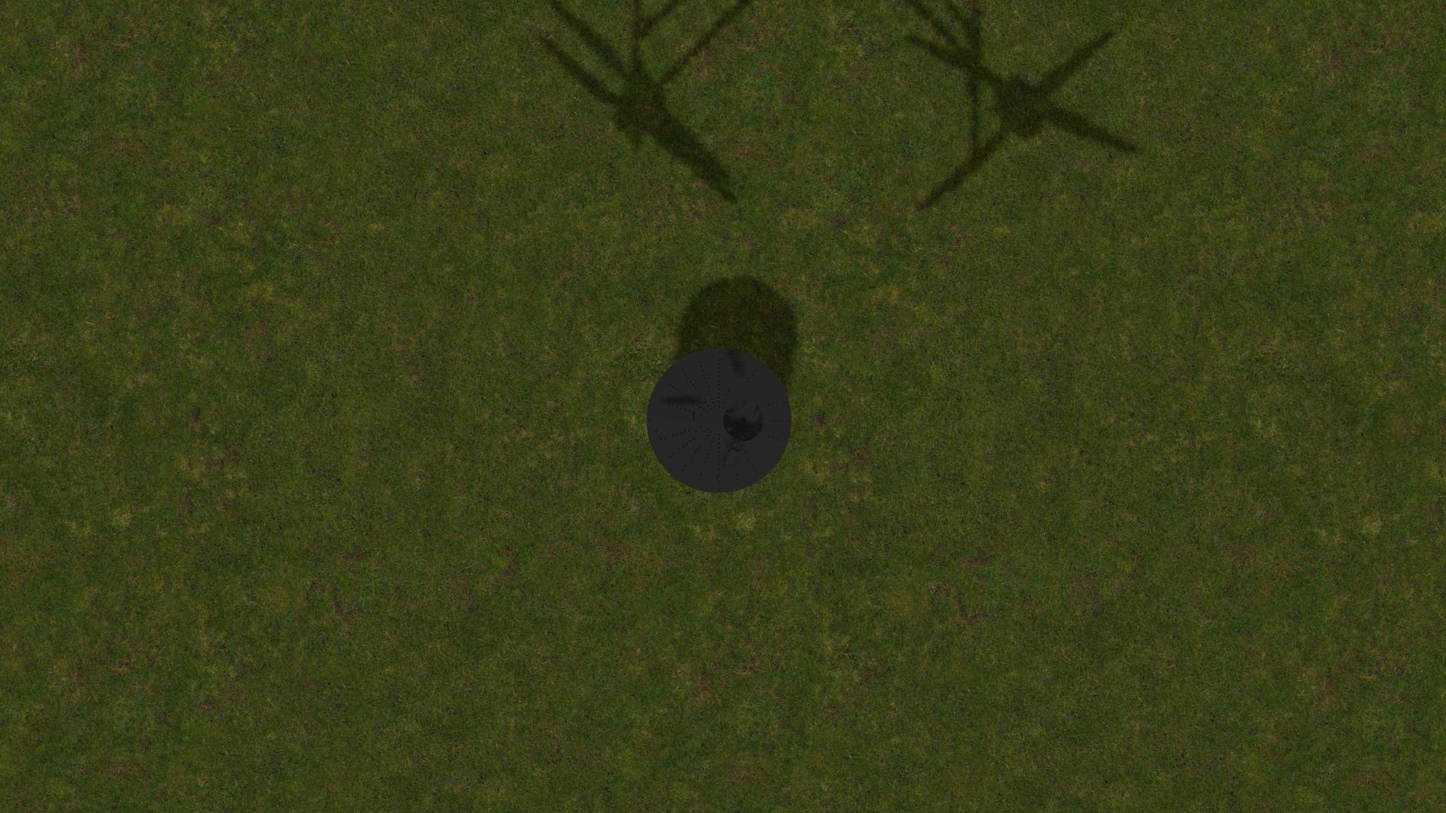alca: (715, 443, 741, 486), (717, 353, 742, 397), (653, 412, 699, 422)
armadilha: (646, 348, 791, 493)
